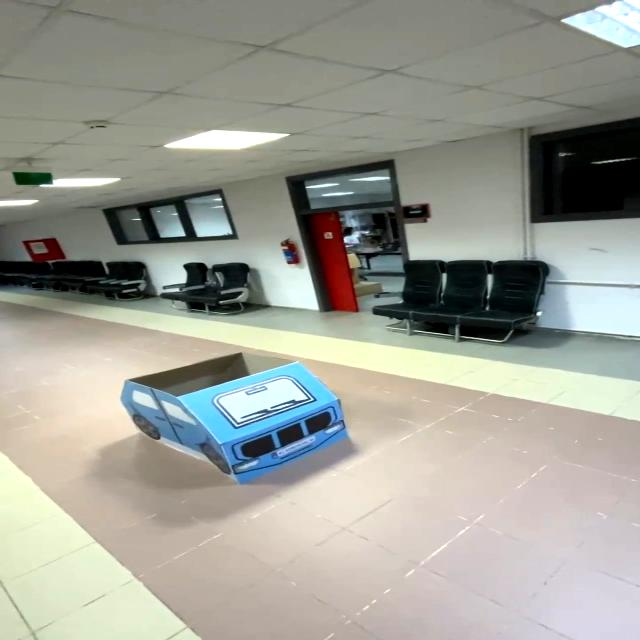blue_car: (93, 330, 390, 507)
